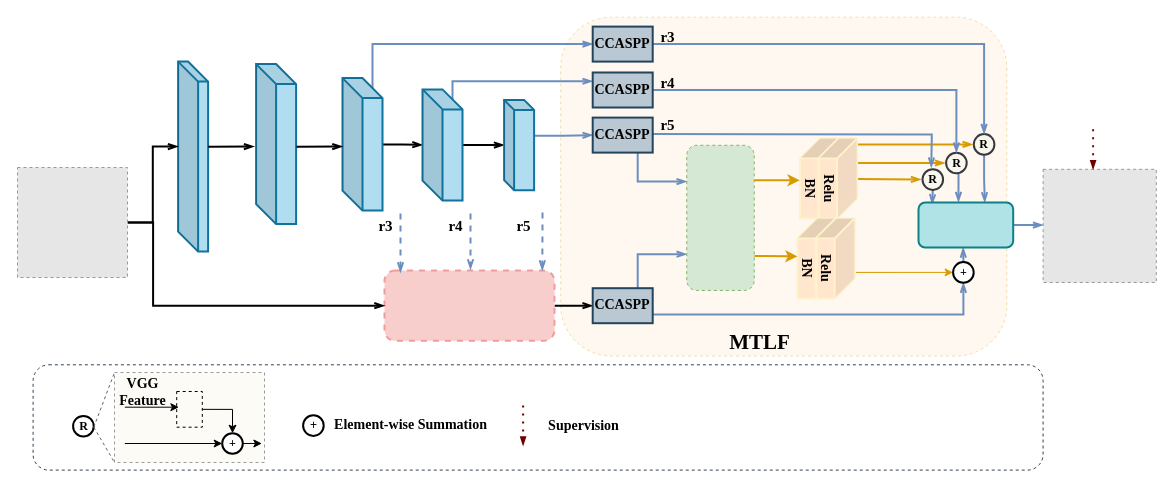
The diagram is 1174 pixels wide and 488 high, and some of its shapes have lost their labels. Grey dashed boxes stand in for pictures. The box of each missing label's shape, as (x1, y1, x2, y2) in pixels:
AFIM: (686, 144, 754, 290)
Depth Estimator: (383, 269, 555, 341)
Fusion: (917, 201, 1014, 248)
up: (176, 390, 202, 427)
